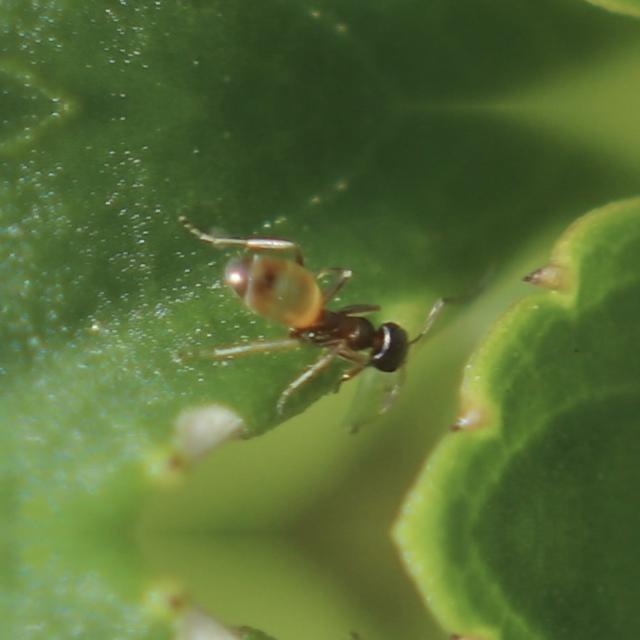Tapinoma: (177, 210, 461, 410)
